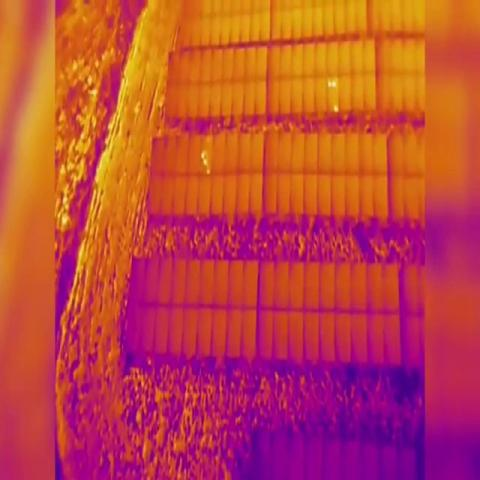fault: (200, 150, 206, 161), (206, 165, 212, 176), (332, 79, 338, 90), (327, 79, 332, 89), (333, 105, 339, 113), (202, 160, 208, 166)
